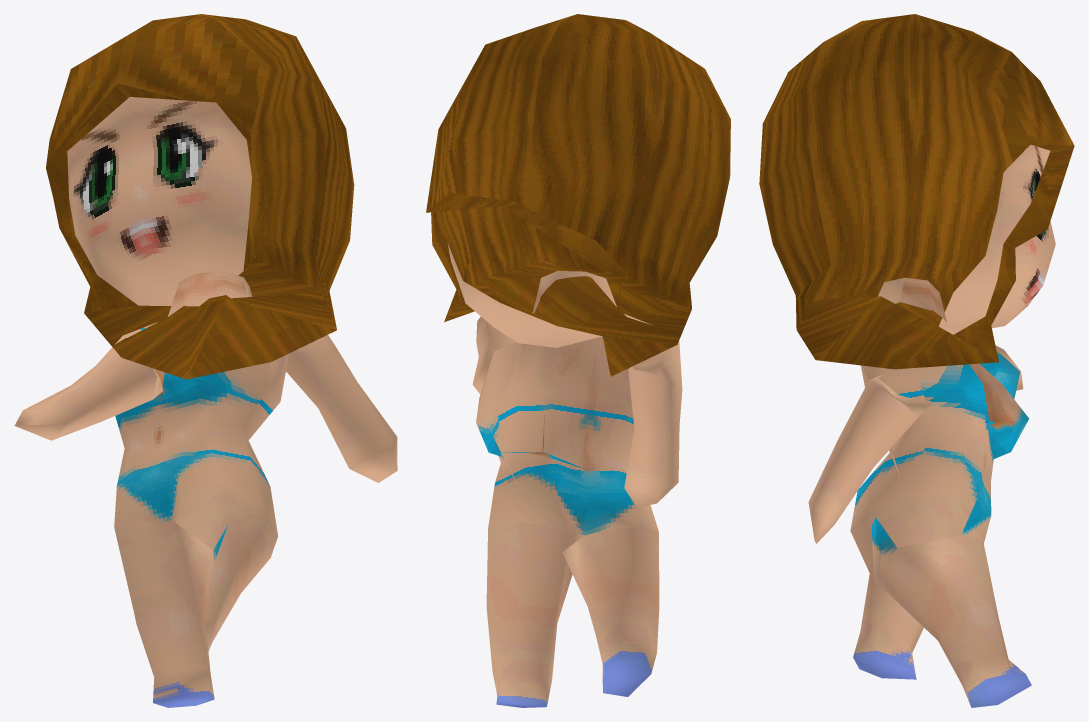
The model's file is ps2_save-icons_lovemahjong.glb.
3 views of the same model, side by side, from view 1: azimuth 30°, elevation 25°; view 2: azimuth 150°, elevation 25°; view 3: azimuth 270°, elevation 25° (orthographic).
Parts seen in each view (by area): view 1: VIEW.ICO; view 2: VIEW.ICO; view 3: VIEW.ICO.
Boxes of the visible parts, bbox=[...] form: VIEW.ICO: bbox=[14, 14, 397, 707]; VIEW.ICO: bbox=[426, 14, 730, 707]; VIEW.ICO: bbox=[759, 14, 1074, 707].
Size of the model in its own units: 2.01 by 4.5 by 1.94.
Materials: 1 (1 with a texture image).
